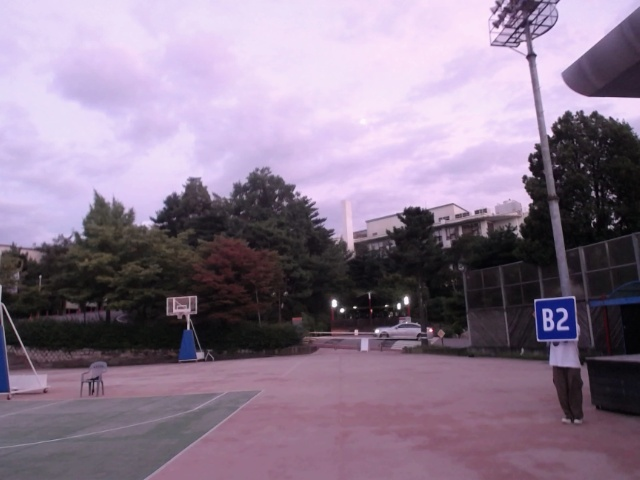delivery_b2: (533, 297, 578, 342)
